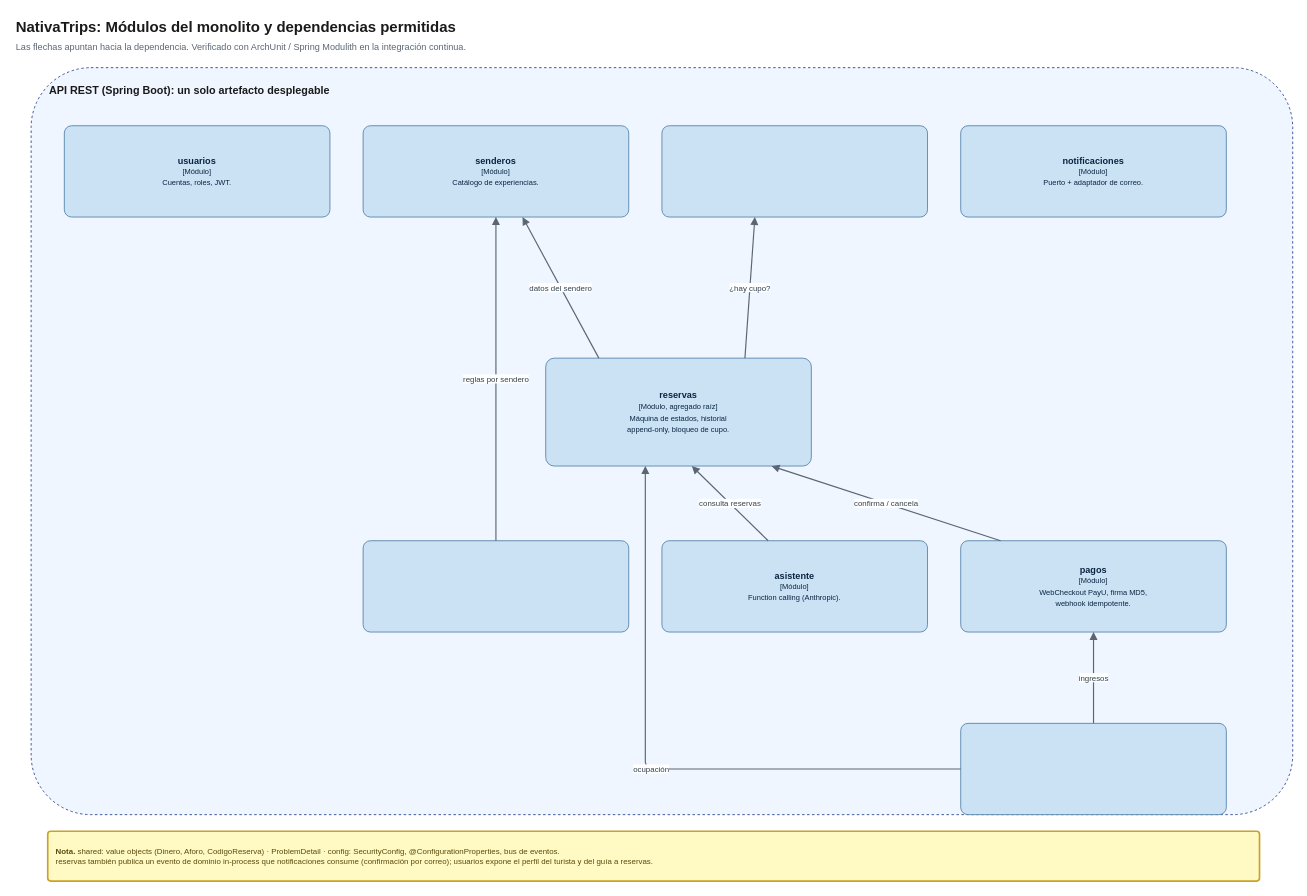
Some shapes in this 1307 by 896 pixel diagram are drawn without their labels. Here are the shapes that lost their labels. From the top down, the centre of each, then its label:
the point at 794,171: capacidad [Módulo] Límites de aforo por sendero.
the point at 495,586: recomendación [Módulo] Reglas heurísticas (Strategy).
the point at 1093,769: dashboard [Módulo] Proyecciones de lectura (CQRS).
